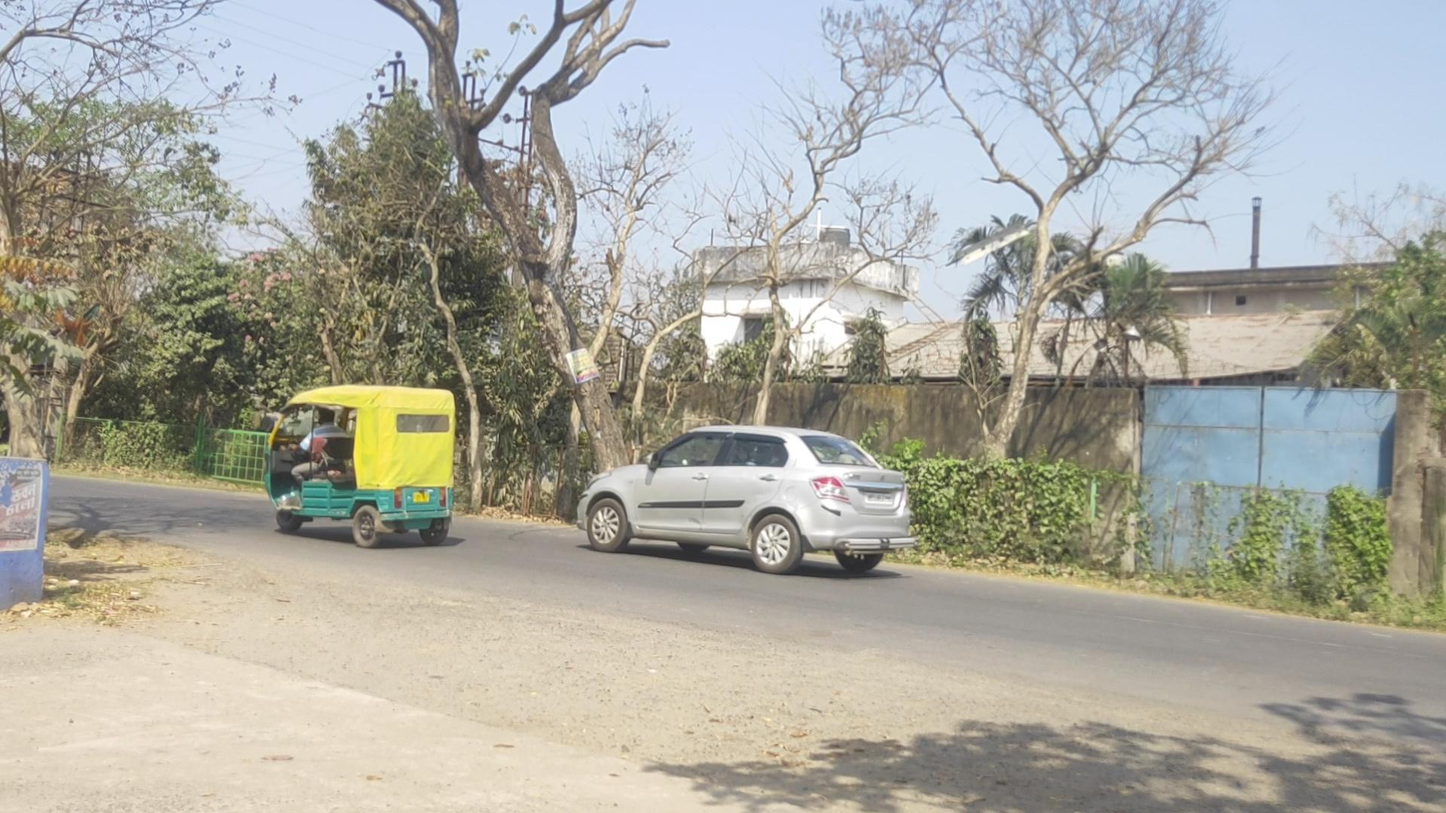Auto: (263, 385, 456, 548)
car: (577, 425, 914, 575)
